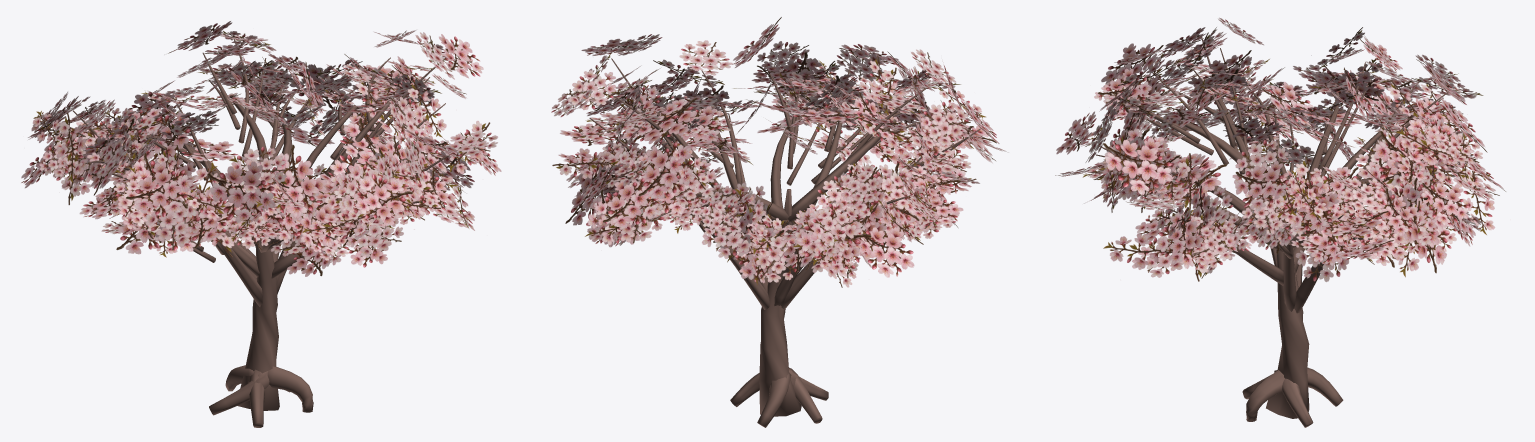
The model's file is sakura_0.glb.
The picture shows the model from 3 angles, left to right: view 1: azimuth 30°, elevation 25°; view 2: azimuth 150°, elevation 25°; view 3: azimuth 270°, elevation 25°; orthographic projection. The views are drawn at different scales.
Visible parts, largest first — view 1: GEO-Sakura individual flower sprigs, GEO-Sakura flowing trunk and twigs; view 2: GEO-Sakura individual flower sprigs, GEO-Sakura flowing trunk and twigs; view 3: GEO-Sakura individual flower sprigs, GEO-Sakura flowing trunk and twigs.
Boxes of the visible parts, left/top/right/bottom form: GEO-Sakura individual flower sprigs: left=21, top=21, right=501, bottom=276; GEO-Sakura flowing trunk and twigs: left=54, top=37, right=465, bottom=427; GEO-Sakura individual flower sprigs: left=551, top=17, right=1006, bottom=287; GEO-Sakura flowing trunk and twigs: left=589, top=58, right=980, bottom=427; GEO-Sakura individual flower sprigs: left=1055, top=17, right=1505, bottom=281; GEO-Sakura flowing trunk and twigs: left=1090, top=36, right=1466, bottom=427.
Bounding box in the file's own units: 5.69 × 4.58 × 5.64.
2 materials, 1 textured.
